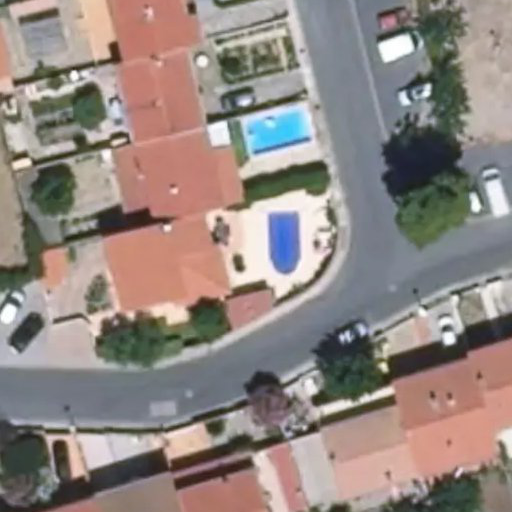pool: (229, 212, 282, 275)
